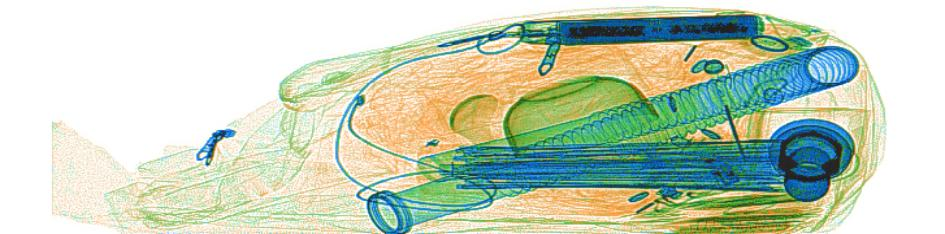battery: (517, 11, 766, 44)
